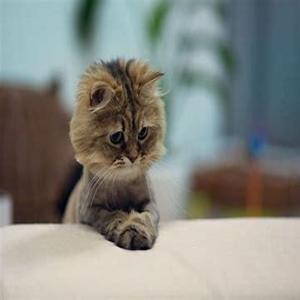cat: (75, 78, 161, 172)
